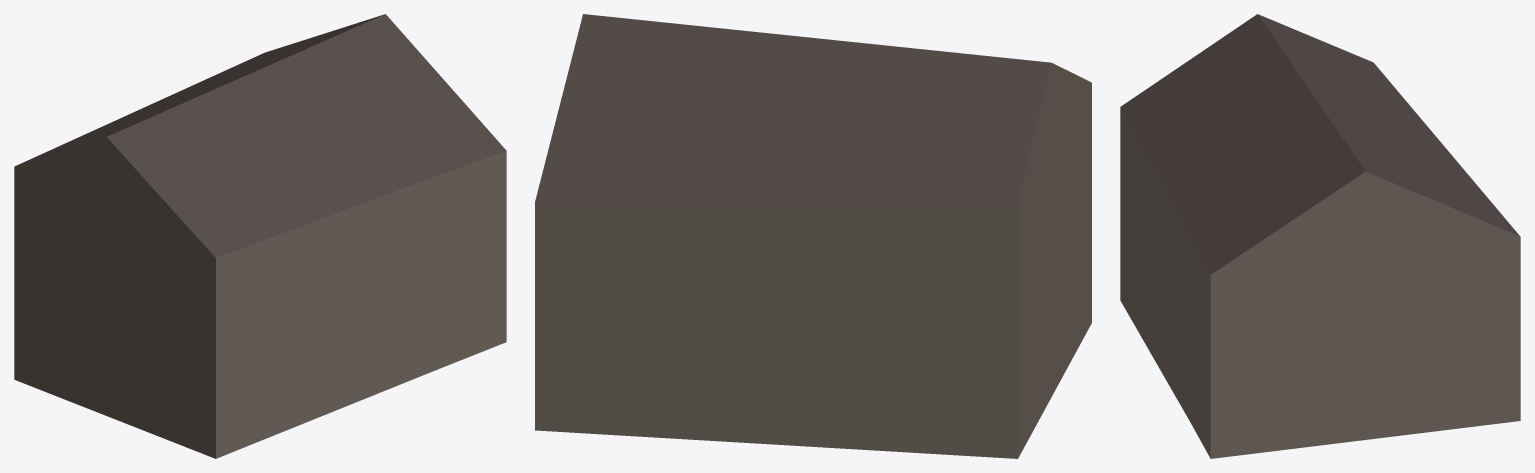
3 views of the same model, side by side, from view 1: azimuth 30°, elevation 25°; view 2: azimuth 150°, elevation 25°; view 3: azimuth 270°, elevation 25° (orthographic). The views are drawn at different scales.
Parts seen in each view (by area): view 1: HP-w1198842234; view 2: HP-w1198842234; view 3: HP-w1198842234.
Boxes of the visible parts, x1,y1,x2,y2 form: HP-w1198842234: (14,14,506,458); HP-w1198842234: (535,14,1091,458); HP-w1198842234: (1120,14,1520,458).
Size of the model in its own units: 13.39 by 8.75 by 11.83.
